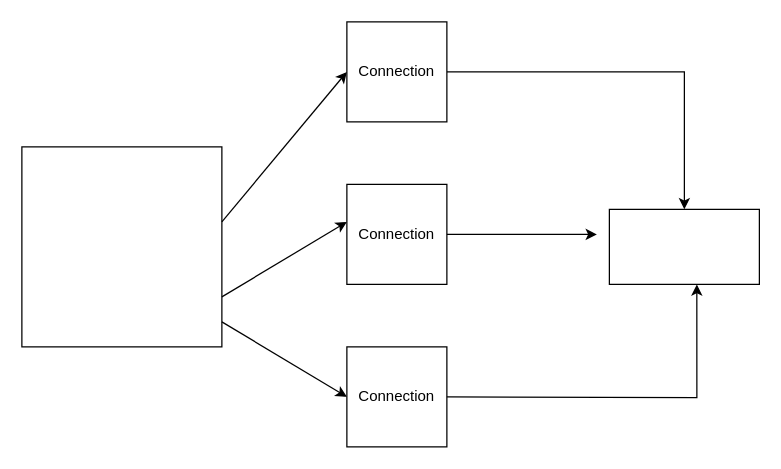
Image size: 781x469. Some labels were removed from this diagram. Here are the shapes that lost their labels. From the top down, the centre of each, then its label:
(x=121, y=246): Server
(x=683, y=246): Client
